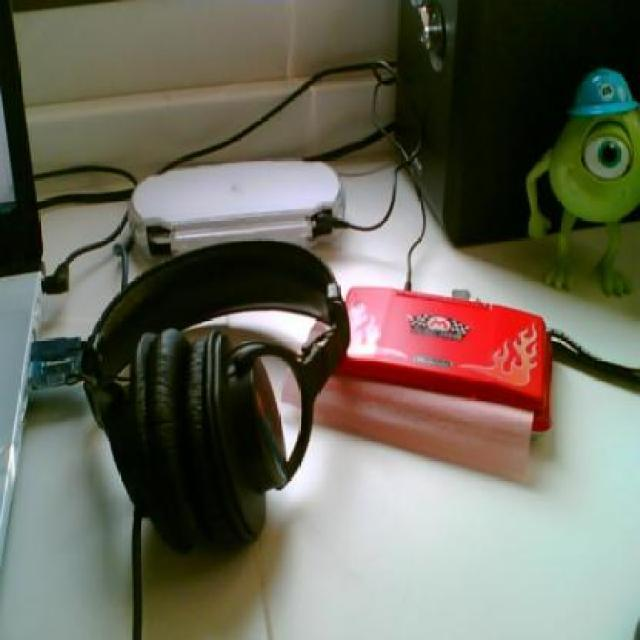earphone: (68, 232, 347, 552)
